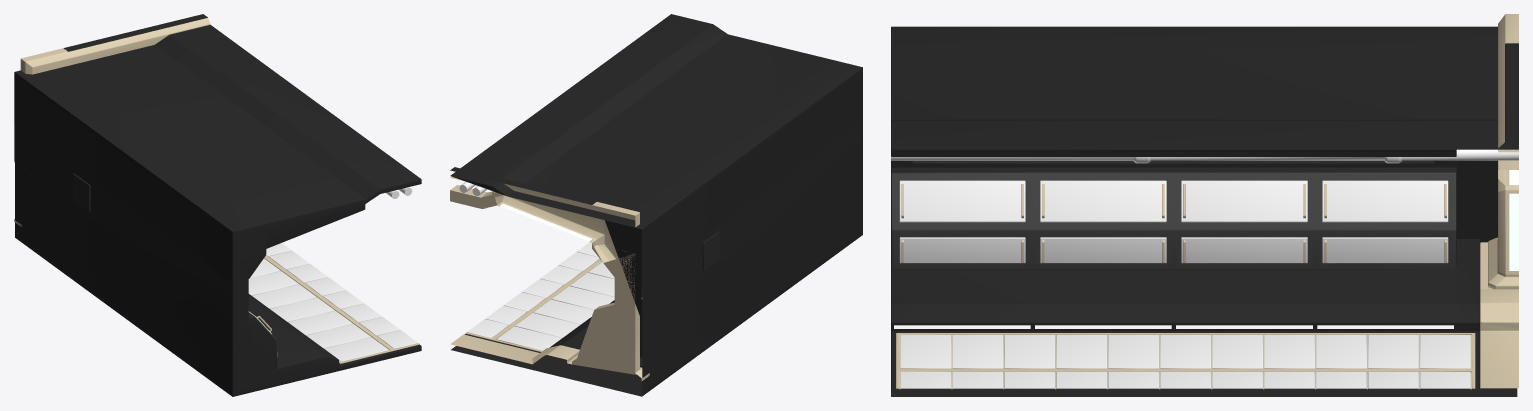
Rendered from tunnel_extra_cut.glb.
The picture shows the model from 3 angles, left to right: view 1: azimuth 30°, elevation 25°; view 2: azimuth 150°, elevation 25°; view 3: azimuth 270°, elevation 25°; orthographic projection. The views are drawn at different scales.
Visible parts, largest first — view 1: Hallway I_1; view 2: Hallway I_1; view 3: Hallway I_1.
Part boxes in pixels (bbox=[...]): Hallway I_1: bbox=[14, 14, 421, 396]; Hallway I_1: bbox=[450, 14, 862, 396]; Hallway I_1: bbox=[891, 14, 1518, 396].
Size of the model in its own units: 1.01 by 0.8968 by 2.
